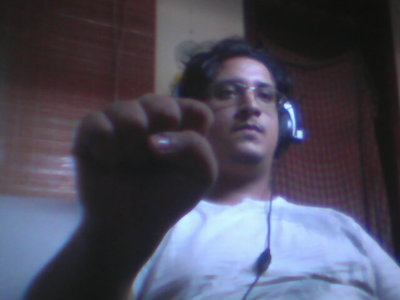closedhandfront: (70, 93, 233, 224)
